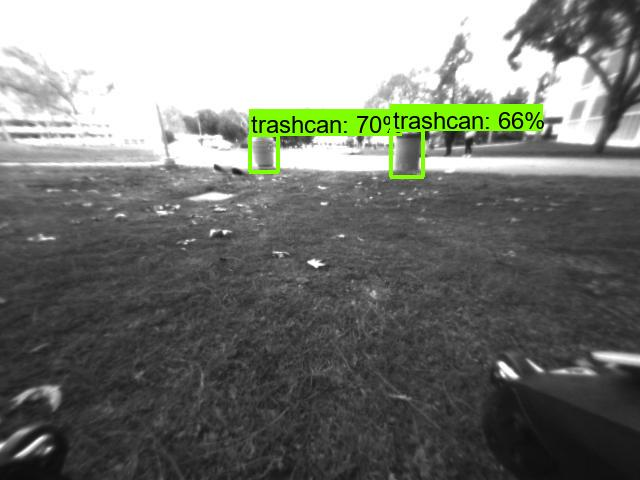trashcan: (394, 134, 423, 173), (256, 136, 274, 170)
